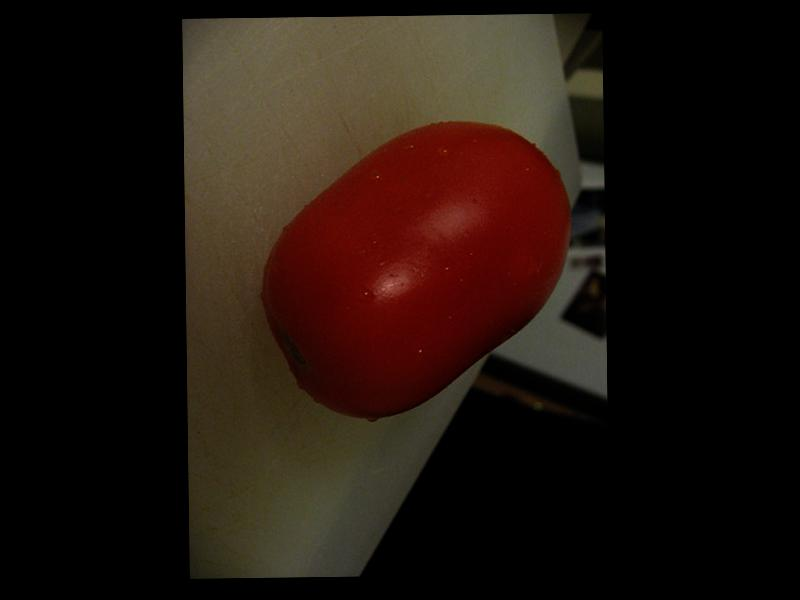Tomato: (261, 120, 574, 420)
